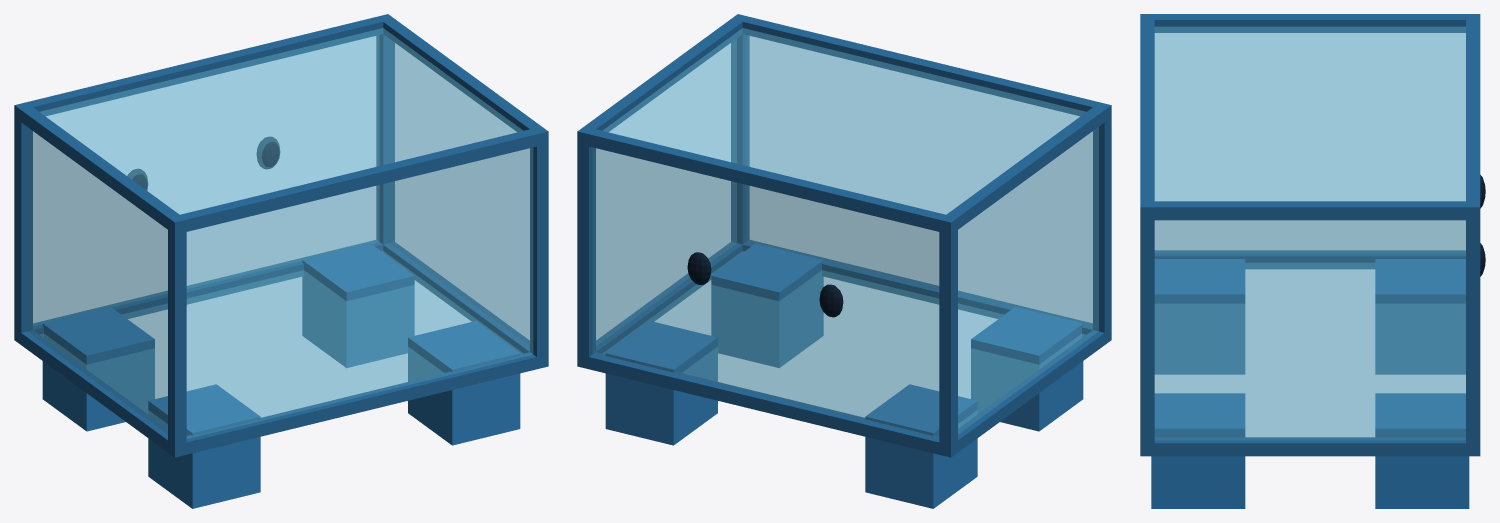
Rendered from ClearCrawler_Enemy.obj.
3 views of the same model, side by side, from view 1: azimuth 30°, elevation 25°; view 2: azimuth 150°, elevation 25°; view 3: azimuth 270°, elevation 25° (orthographic). The views are drawn at different scales.
Parts seen in each view (by area): view 1: ClearBody, FootRF, FootRB, FootLF, FootLB, RailTopBack, RailTopFront, RailBottomBack, EdgeLBack, EdgeRBack, EdgeLFront, RailTopL (+6 smaller); view 2: ClearBody, FootRB, FootRF, FootLB, FootLF, RailTopFront, RailBottomFront, RailTopBack, EdgeLFront, EdgeRFront, EdgeLBack, RailBottomBack (+7 smaller); view 3: ClearBody, FootLF, FootLB, FootRB, FootRF, RailTopR, RailBottomR, RailTopL, RailBottomL, EdgeRBack, EdgeRFront, RailTopBack (+1 smaller).
Part boxes in pixels (bbox=[...]): ClearBody: bbox=[27, 28, 532, 438]; FootRF: bbox=[302, 243, 414, 367]; FootRB: bbox=[408, 321, 520, 445]; FootLF: bbox=[42, 307, 154, 431]; FootLB: bbox=[148, 384, 260, 508]; RailTopBack: bbox=[168, 126, 548, 233]; RailTopFront: bbox=[14, 14, 394, 121]; RailBottomBack: bbox=[168, 352, 548, 457]; EdgeLBack: bbox=[168, 219, 186, 455]; EdgeRBack: bbox=[530, 133, 548, 367]; EdgeLFront: bbox=[14, 107, 32, 343]; RailTopL: bbox=[14, 104, 185, 232]; ClearBody: bbox=[593, 28, 1098, 438]; FootRB: bbox=[711, 243, 823, 367]; FootRF: bbox=[605, 321, 717, 445]; FootLB: bbox=[971, 307, 1083, 431]; FootLF: bbox=[865, 384, 977, 508]; RailTopFront: bbox=[577, 126, 957, 233]; RailBottomFront: bbox=[577, 352, 957, 457]; RailTopBack: bbox=[731, 14, 1111, 121]; EdgeLFront: bbox=[939, 219, 957, 455]; EdgeRFront: bbox=[577, 133, 595, 367]; EdgeLBack: bbox=[1093, 107, 1111, 343]; RailBottomBack: bbox=[742, 240, 1111, 343]; ClearBody: bbox=[1154, 27, 1465, 439]; FootLF: bbox=[1375, 259, 1465, 374]; FootLB: bbox=[1154, 259, 1245, 374]; FootRB: bbox=[1151, 393, 1245, 508]; FootRF: bbox=[1375, 393, 1469, 508]; RailTopR: bbox=[1142, 201, 1479, 220]; RailBottomR: bbox=[1141, 437, 1477, 456]; RailTopL: bbox=[1141, 14, 1479, 32]; RailBottomL: bbox=[1154, 250, 1465, 268]; EdgeRBack: bbox=[1140, 209, 1154, 454]; EdgeRFront: bbox=[1466, 209, 1480, 454]; RailTopBack: bbox=[1140, 14, 1154, 219].
Size of the model in its own units: 1.75 by 1.33 by 1.33.
